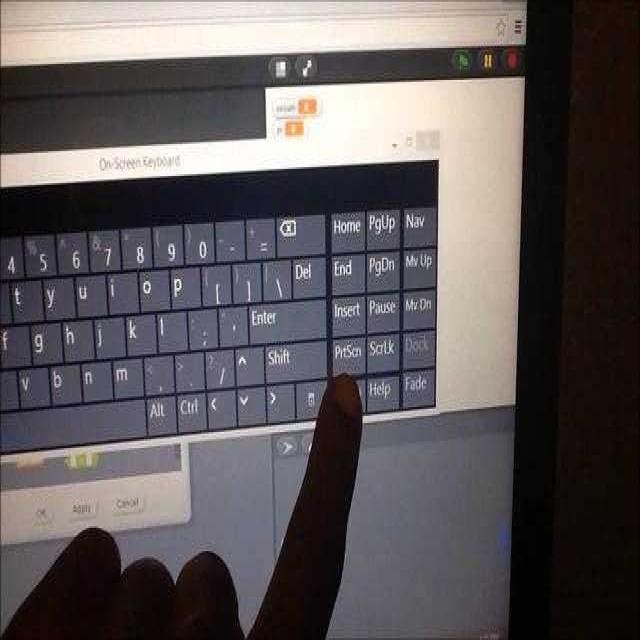laptop: (0, 0, 558, 640)
